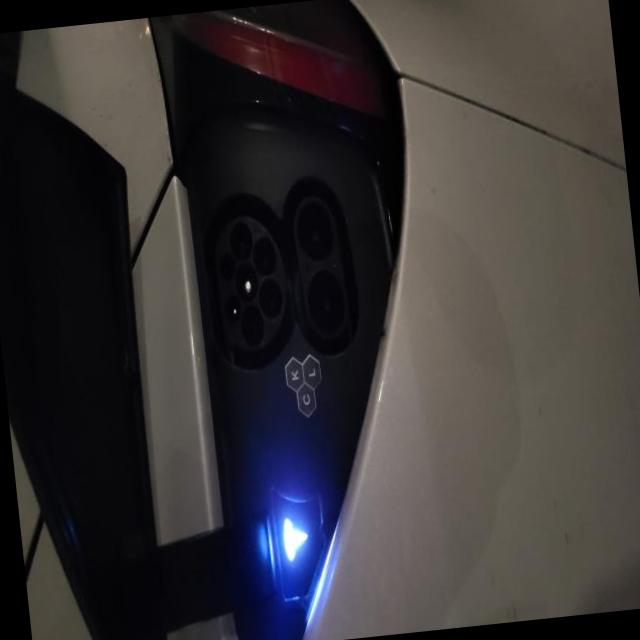inlet: (214, 215, 286, 349)
inlet-above-left: (224, 292, 240, 321)
inlet-above-right: (219, 251, 234, 280)
inlet-below-left: (258, 277, 282, 318)
inlet-below-right: (252, 236, 276, 275)
inlet-center: (234, 262, 258, 301)
inlet-center-left: (240, 304, 264, 344)
inlet-center-right: (229, 220, 252, 260)
